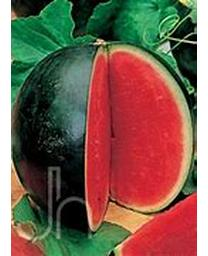watermelon: (12, 45, 196, 230)
